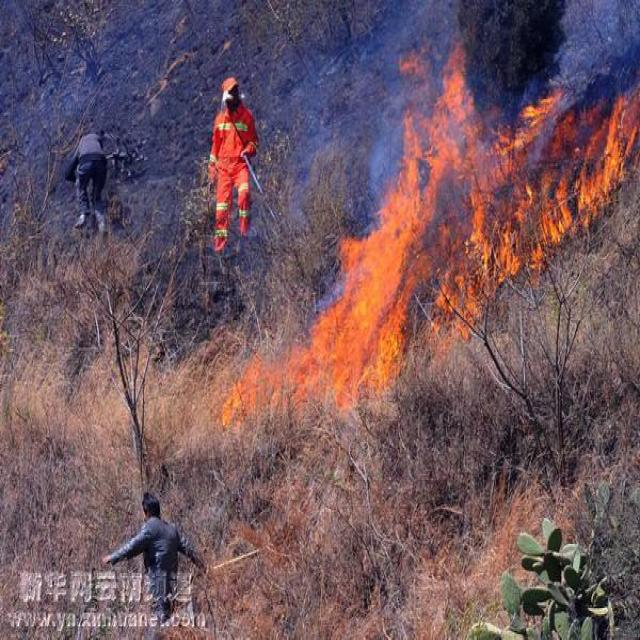fire: (279, 43, 638, 410)
other: (198, 67, 260, 247)
